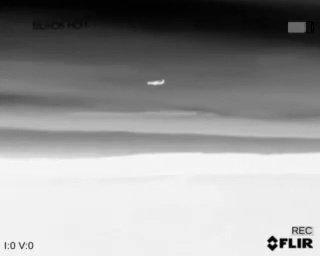AIRPLANE: (145, 76, 167, 88)
